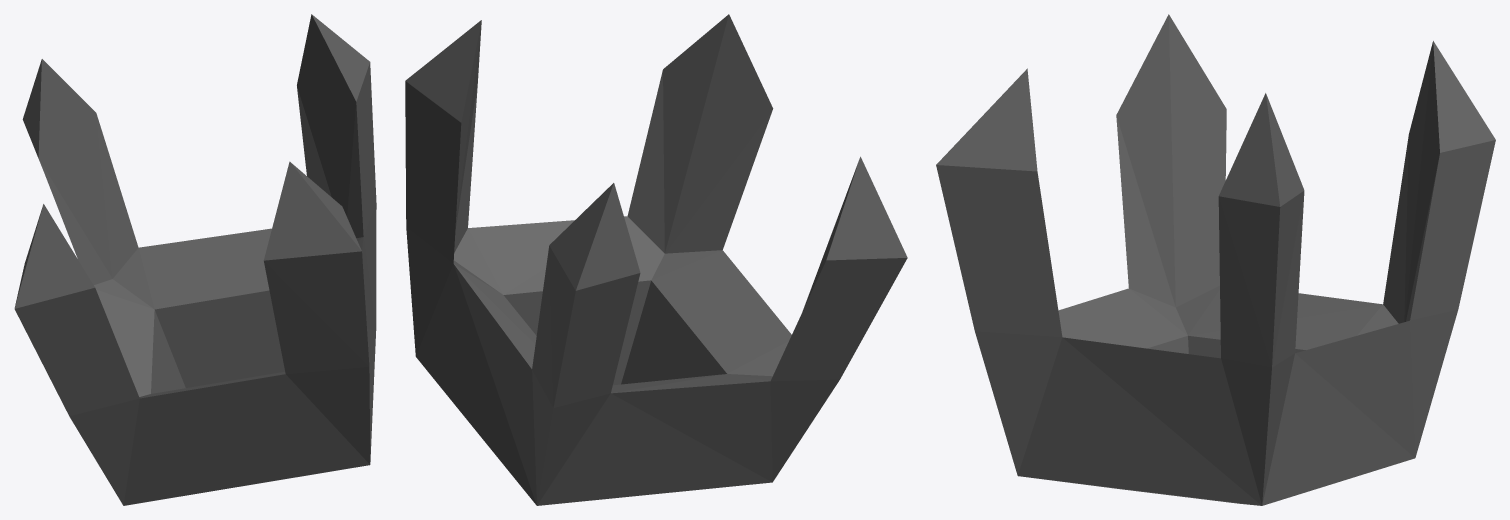
The model's file is TorchCrown.fbx.
3 renders of one model, left to right at view 1: azimuth 30°, elevation 25°; view 2: azimuth 150°, elevation 25°; view 3: azimuth 270°, elevation 25°, orthographic. The views are drawn at different scales.
Visible parts, largest first — view 1: TorchCrown; view 2: TorchCrown; view 3: TorchCrown.
Part boxes in pixels (x1=…): TorchCrown: x1=14, y1=14, x2=376, y2=505; TorchCrown: x1=405, y1=14, x2=907, y2=505; TorchCrown: x1=936, y1=14, x2=1495, y2=505.
Bounding box in the file's own units: 86.84 × 81.18 × 88.82.
